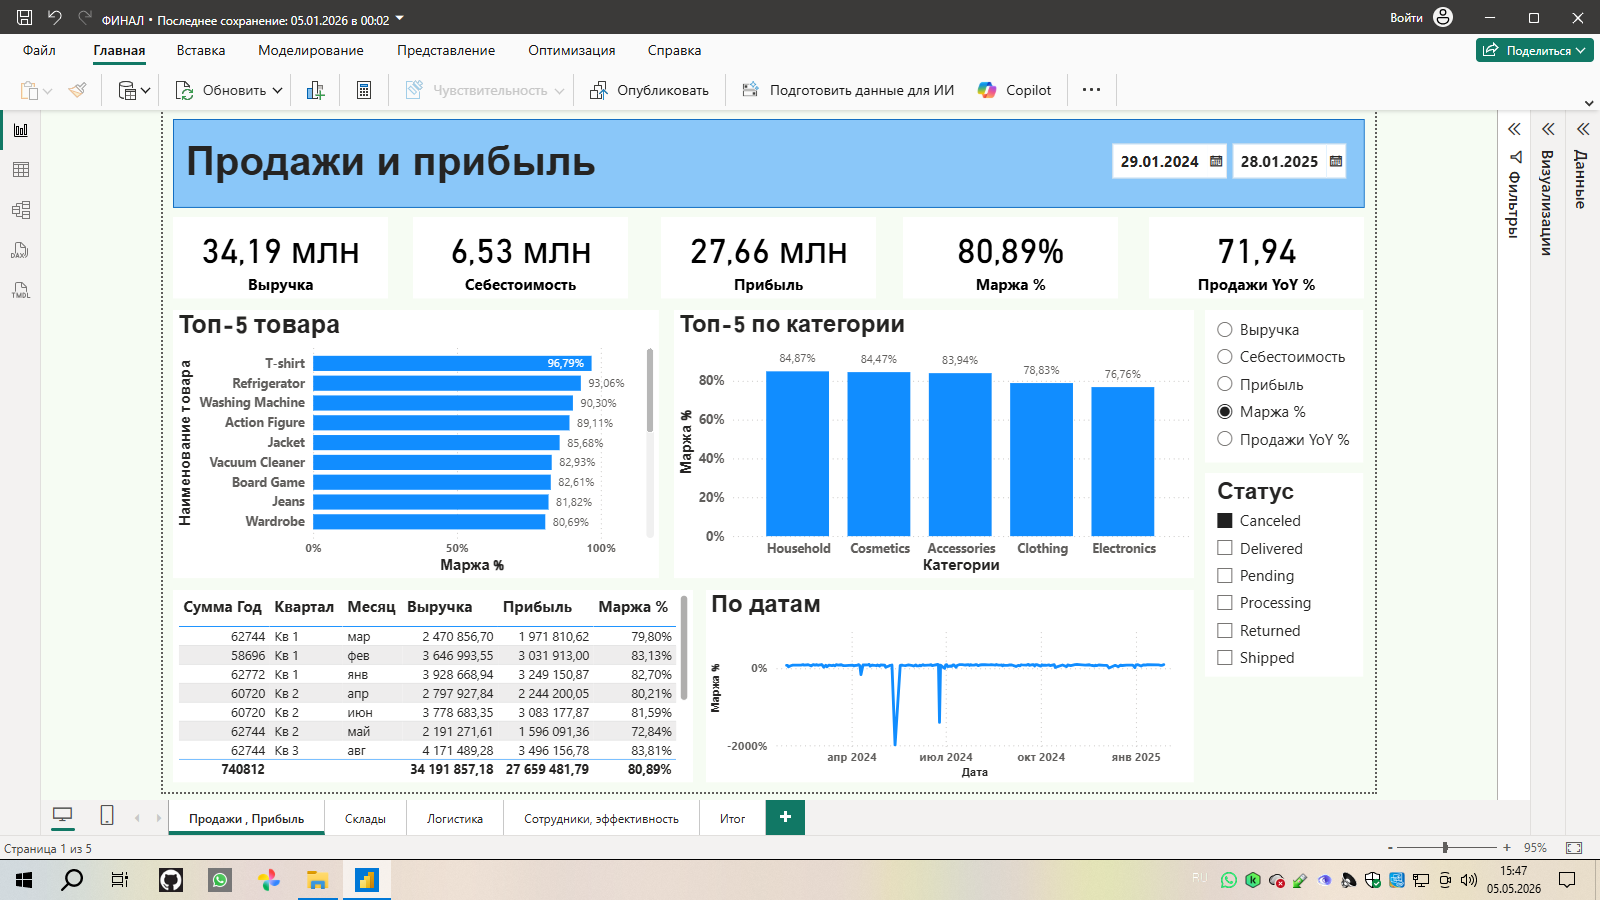

The page's visual inventory and layout, read from the dashboard file:
{"tool":"powerbi","page":{"name":"Продажи , Прибыль","canvas":[1280,720],"ordinal":0},"visuals":[{"type":"shape","box":[10.3,9,1258.2,93.8],"z":0},{"type":"textbox","box":[19.3,24.4,456.2,64.3],"z":1000},{"type":"slicer","fields":{"Values":["Calendar.Date"]},"box":[989.6,25.7,278.9,60.4],"z":2000},{"type":"card","fields":{"Values":["Summary.Маржа %"]},"box":[781.4,113.1,227.5,86.1],"z":3000},{"type":"card","fields":{"Values":["Summary.Прибыль"]},"box":[525.6,113.1,227.5,86.1],"z":4000},{"type":"card","fields":{"Values":["Summary.Себестоимость"]},"box":[263.5,113.1,227.5,86.1],"z":5000},{"type":"card","fields":{"Values":["Summary.Total Sales"]},"box":[10.3,113.1,227.5,86.1],"z":6000},{"type":"card","fields":{"Values":["Summary.Продажи YoY %"]},"box":[1041,113.1,227.5,86.1],"z":7000},{"type":"slicer","fields":{"Values":["Параметр.Параметр"]},"box":[1100.1,210.8,167.1,160.6],"z":8000},{"type":"clusteredColumnChart","title":"Топ-5  по категории","fields":{"Y":["Summary.Маржа %"],"Category":["Student nomenclature_reference.category"]},"box":[539.8,210.8,548.8,282.7],"z":9000},{"type":"tableEx","title":"Выручка в Год, Квартал, Месяц","fields":{"Values":["Sum(Calendar.Год)","Calendar.Квартал","Calendar.Месяц","Summary.Выручка","Summary.Прибыль","Summary.Маржа %"]},"box":[10.3,506.3,548.8,203.1],"z":10000},{"type":"barChart","title":"Топ-5 товара","fields":{"Y":["Summary.Маржа %"],"Category":["Student public_items.item_name"]},"box":[10.3,210.8,512.8,282.7],"z":11000},{"type":"slicer","fields":{"Values":["Student public_order_status.status_name"]},"box":[1100.1,383,167.1,214.6],"z":12000},{"type":"lineChart","title":"По датам","fields":{"Y":["Summary.Маржа %"],"Category":["Calendar.Дата.Изменение.Иерархия дат.Год","Calendar.Дата.Изменение.Иерархия дат.Квартал","Calendar.Дата.Изменение.Иерархия дат.Месяц","Calendar.Дата.Изменение.Иерархия дат.День"]},"box":[573.2,506.3,515.3,203.1],"z":13000}]}

Visuals, with their boxes on the page's 1280x720 design canvas (x1, y1, x2, y2). These are canvas units, not pixel positions in the 1600x900 screenshot, which may show the page scaled, cropped or inside an application window:
shape: 10 9 1268 103
textbox: 19 24 476 89
slicer - Calendar.Date: 990 26 1268 86
card - Summary.Маржа %: 781 113 1009 199
card - Summary.Прибыль: 526 113 753 199
card - Summary.Себестоимость: 264 113 491 199
card - Summary.Total Sales: 10 113 238 199
card - Summary.Продажи YoY %: 1041 113 1268 199
slicer - Параметр.Параметр: 1100 211 1267 371
"Топ-5  по категории" clusteredColumnChart: 540 211 1089 494
"Выручка в Год, Квартал, Месяц" tableEx: 10 506 559 709
"Топ-5 товара" barChart: 10 211 523 494
slicer - Student public_order_status.status_name: 1100 383 1267 598
"По датам" lineChart: 573 506 1088 709
